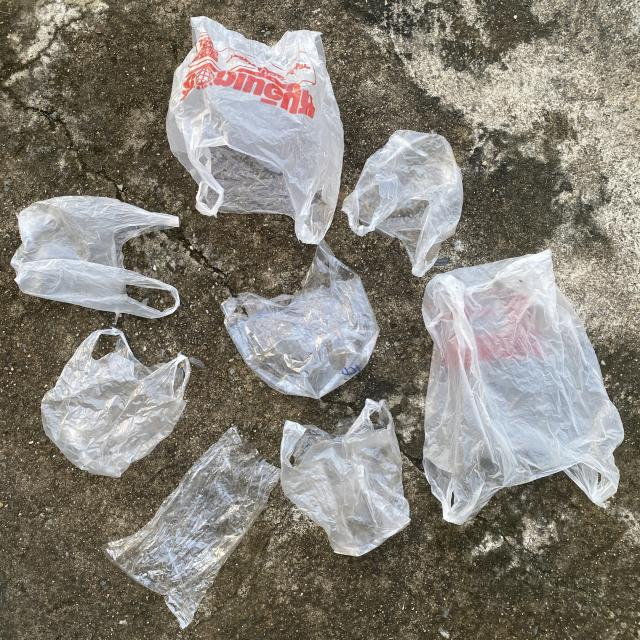Single-layer Plastic: (422, 250, 624, 524), (166, 16, 344, 244), (105, 428, 280, 629), (221, 241, 379, 399), (41, 328, 190, 478), (11, 196, 180, 319), (280, 399, 410, 556), (342, 130, 462, 276)
